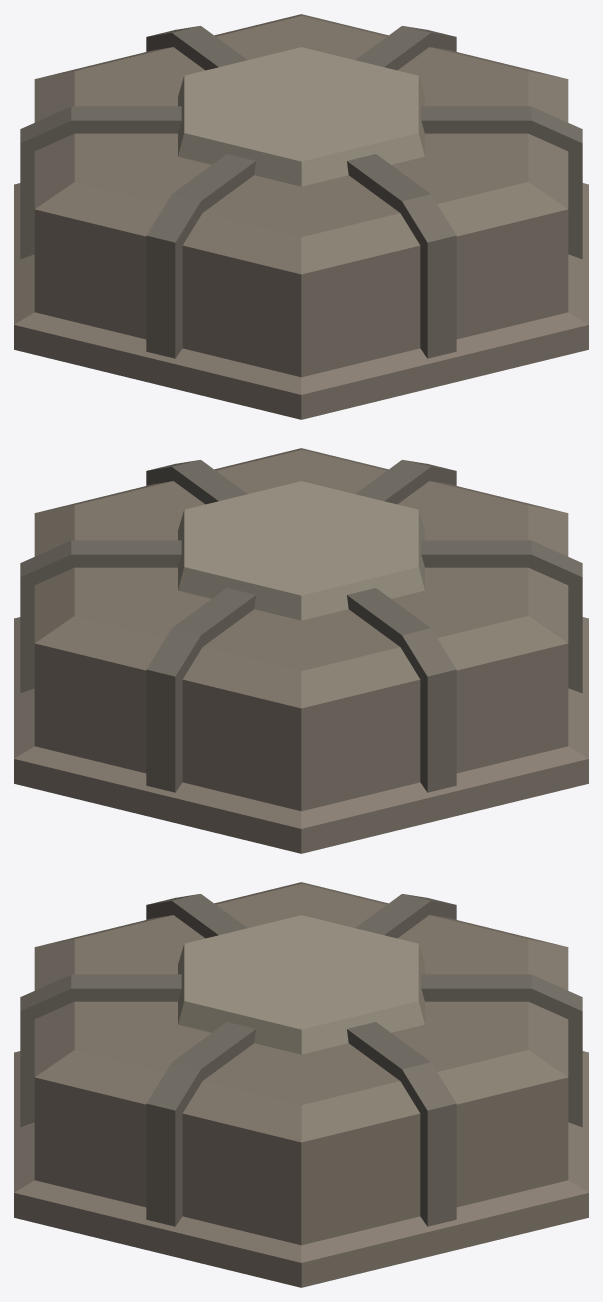
File: SM_Prop_Mine_02.glb
3 views of the same model, one above another, from view 1: azimuth 30°, elevation 25°; view 2: azimuth 150°, elevation 25°; view 3: azimuth 270°, elevation 25° (orthographic).
Visible parts, largest first — view 1: SM_Prop_Mine_02; view 2: SM_Prop_Mine_02; view 3: SM_Prop_Mine_02.
Boxes of the visible parts, x1,y1,x2,y2 form: SM_Prop_Mine_02: (14, 14, 588, 419); SM_Prop_Mine_02: (14, 448, 588, 853); SM_Prop_Mine_02: (14, 882, 588, 1287).
Bounding box in the file's own units: 0.1164 × 0.0339 × 0.1008.
Materials: 1 (1 with a texture image).
